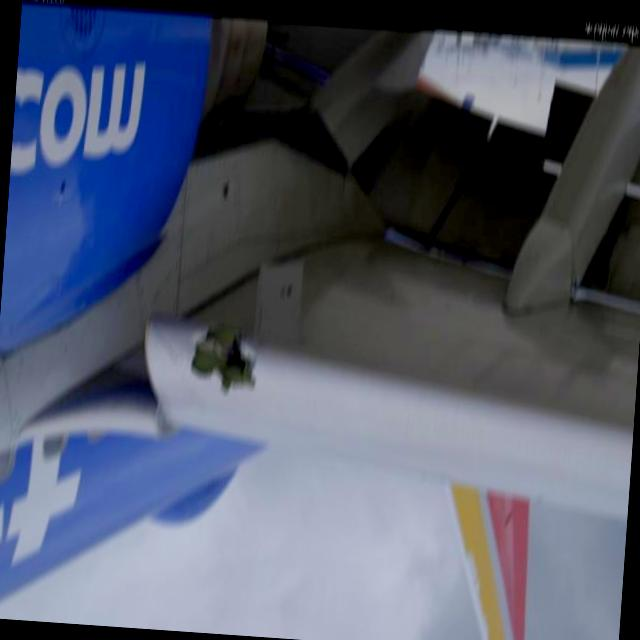crack: (188, 317, 262, 400)
